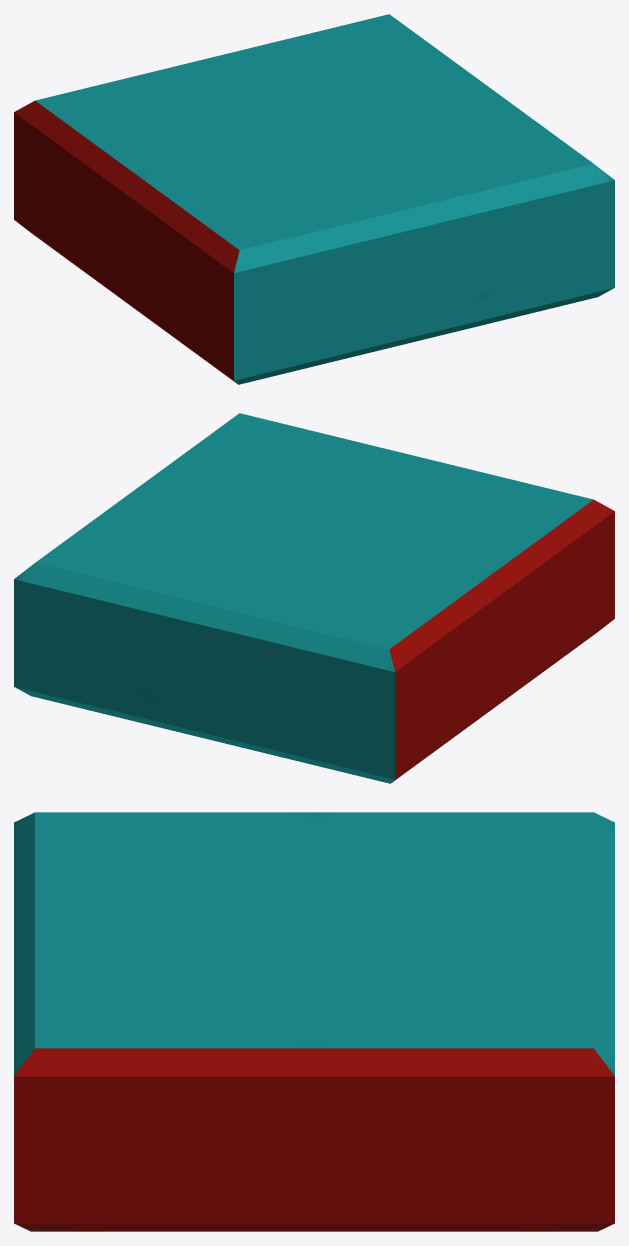
Rendered from AmmoBox.fbx.
3 renders of one model, top to bottom at view 1: azimuth 30°, elevation 25°; view 2: azimuth 150°, elevation 25°; view 3: azimuth 270°, elevation 25°, orthographic. The views are drawn at different scales.
Parts seen in each view (by area): view 1: Cube; view 2: Cube; view 3: Cube.
Part boxes in pixels (bbox=[...]): Cube: bbox=[14, 14, 614, 384]; Cube: bbox=[14, 413, 614, 783]; Cube: bbox=[14, 812, 614, 1231].
Bounding box in the file's own units: 200 × 66.62 × 200.
1 material, 1 textured.
